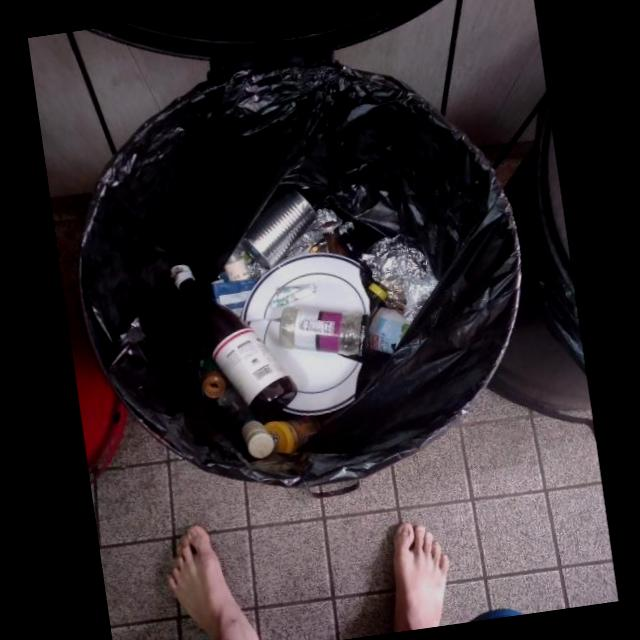chai_thuy_tinh: (170, 265, 298, 421), (203, 377, 274, 459), (279, 306, 369, 357), (322, 221, 373, 279), (264, 417, 322, 454)
nhom: (362, 235, 438, 321), (241, 185, 317, 269), (282, 208, 354, 260), (368, 307, 411, 354)
